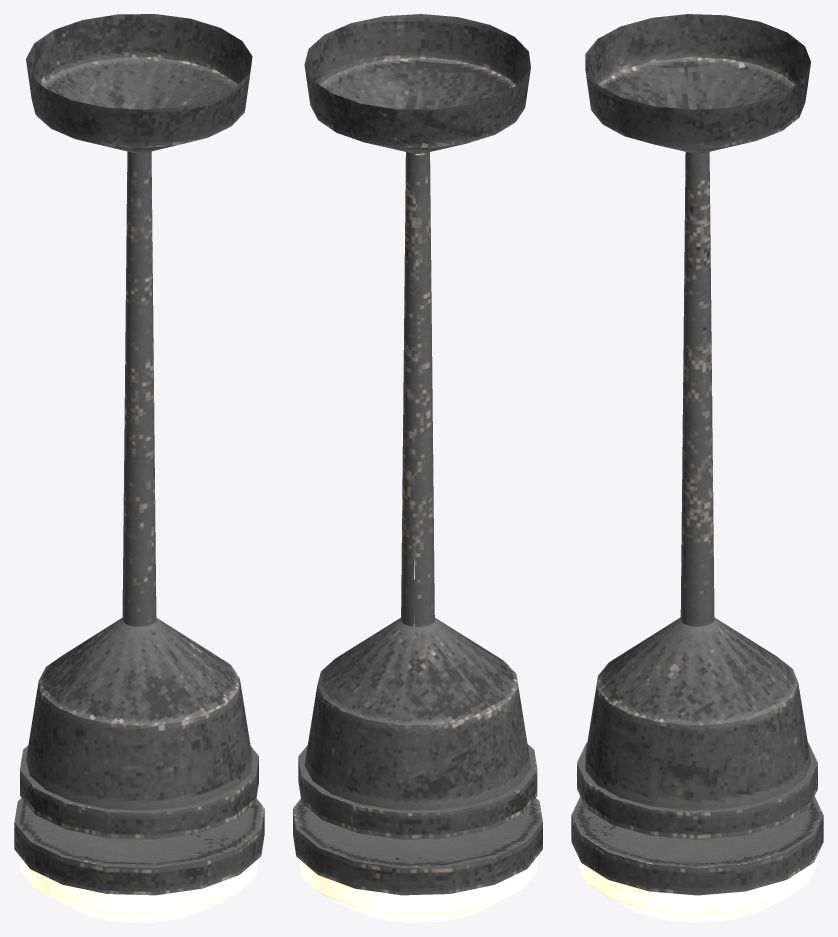
File: CeilingFanMain.glb
The picture shows the model from 3 angles, left to right: view 1: azimuth 30°, elevation 25°; view 2: azimuth 150°, elevation 25°; view 3: azimuth 270°, elevation 25°; orthographic projection.
Visible parts, largest first — view 1: CeilingFanMain; view 2: CeilingFanMain; view 3: CeilingFanMain.
Boxes of the visible parts, x1,y1,x2,y2 form: CeilingFanMain: (14,14,264,922); CeilingFanMain: (293,14,542,922); CeilingFanMain: (571,14,823,922).
Bounding box in the file's own units: 0.1989 × 0.7183 × 0.1989.
Materials: 1 (1 with a texture image).
